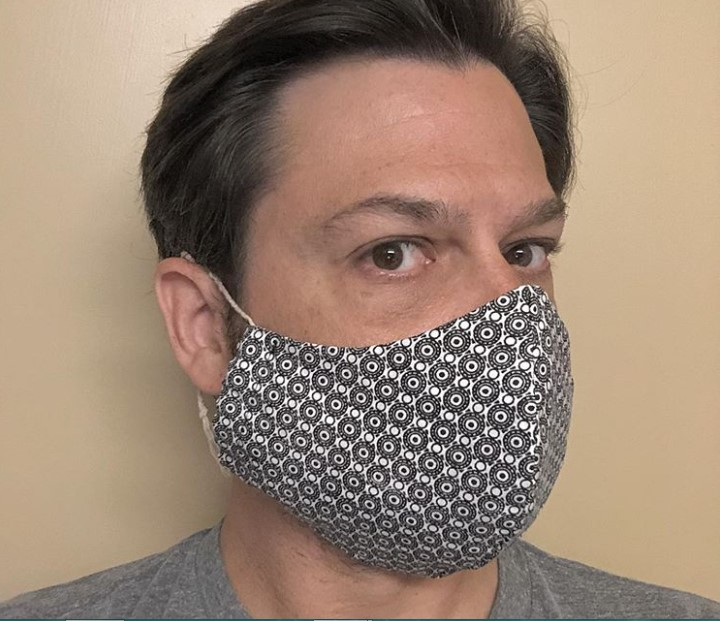face_with_mask: (147, 9, 579, 582)
